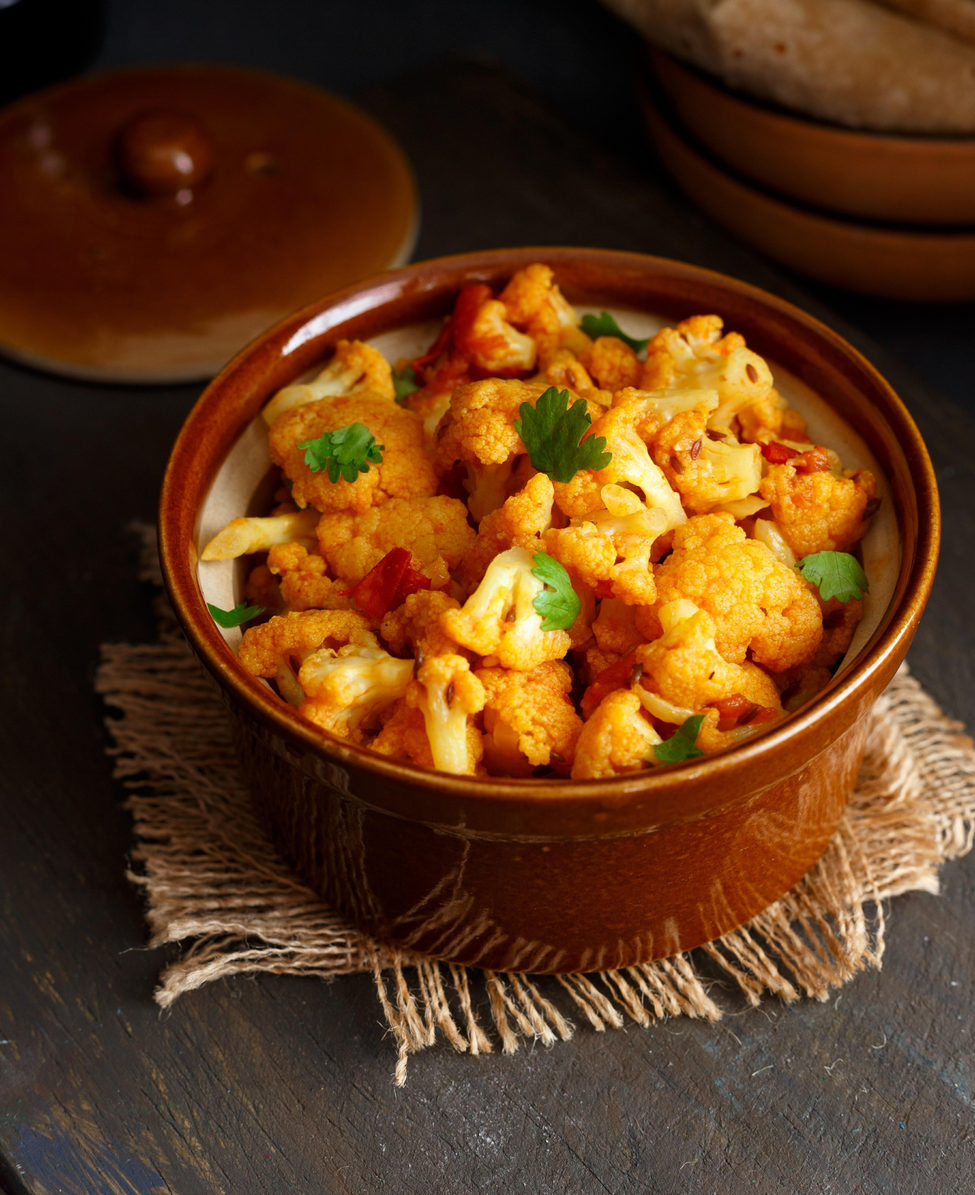AlooGobi: (197, 261, 886, 777)
